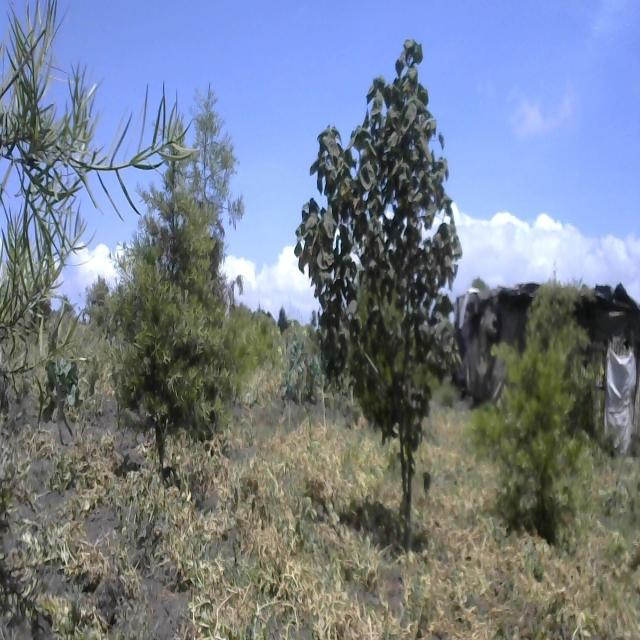Podocarpus falcatus: (110, 105, 240, 442), (0, 0, 100, 405), (491, 271, 586, 524)
other: (300, 27, 468, 531)
